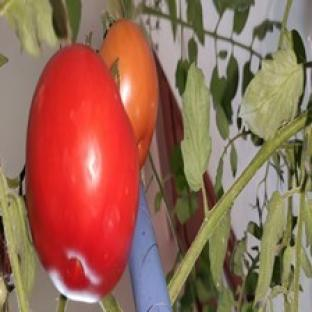Tomato: (27, 45, 139, 302), (99, 20, 158, 167)
